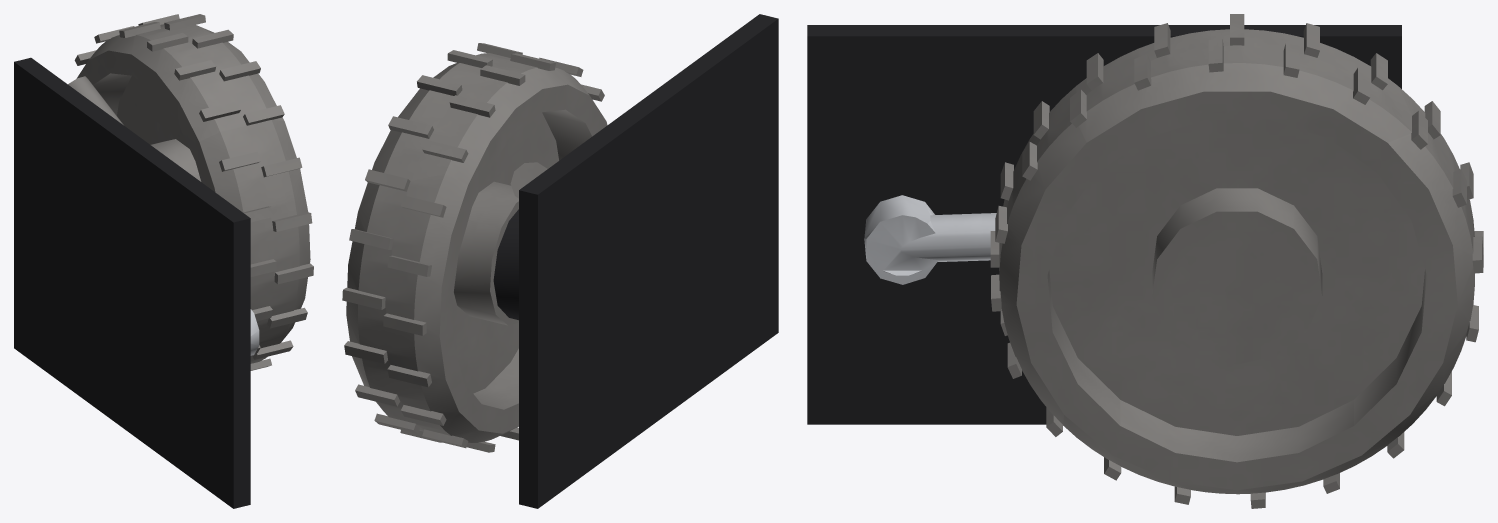
File: rover04_wheel_m_susp_up.glb
3 renders of one model, left to right at view 1: azimuth 30°, elevation 25°; view 2: azimuth 150°, elevation 25°; view 3: azimuth 270°, elevation 25°, orthographic. The views are drawn at different scales.
Parts seen in each view (by area): view 1: mount_plate, wheel, damper, swing_arm; view 2: mount_plate, wheel, hub_motor, damper; view 3: wheel, mount_plate, swing_arm.
Part boxes in pixels (x1,y1,x2,y2): mount_plate: [14, 57, 250, 508]; wheel: [74, 14, 313, 370]; damper: [68, 76, 123, 125]; swing_arm: [250, 309, 259, 355]; mount_plate: [519, 14, 778, 508]; wheel: [342, 43, 607, 452]; hub_motor: [493, 209, 518, 320]; damper: [510, 162, 547, 198]; wheel: [990, 14, 1483, 508]; mount_plate: [807, 25, 1401, 424]; swing_arm: [864, 195, 996, 284].
Bounding box in the file's own units: 0.4158 × 0.8531 × 1.17.
3 materials, 2 textured.
